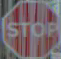Stop: (3, 2, 57, 48)
